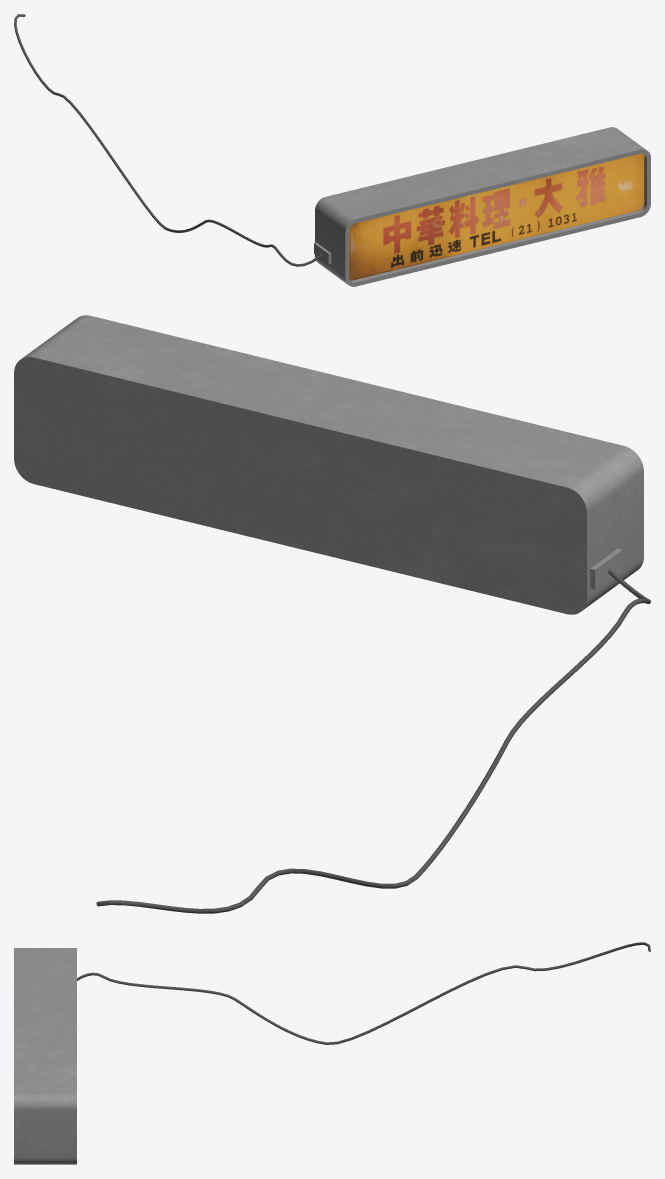
The model's file is bar_sign.gltf.
3 views of the same model, one above another, from view 1: azimuth 30°, elevation 25°; view 2: azimuth 150°, elevation 25°; view 3: azimuth 270°, elevation 25° (orthographic). The views are drawn at different scales.
Visible parts, largest first — view 1: Cube.037; view 2: Cube.037; view 3: Cube.037.
Part boxes in pixels (x1=…): Cube.037: x1=14, y1=14, x2=650, y2=286; Cube.037: x1=14, y1=315, x2=650, y2=913; Cube.037: x1=14, y1=942, x2=650, y2=1164.
Size of the model in its own units: 6.1 by 1.87 by 9.32.
3 materials, 3 textured.
